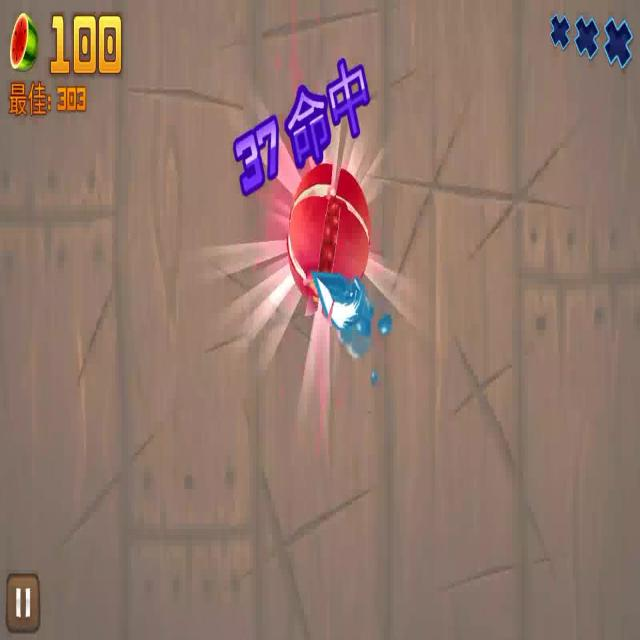fruit: (287, 163, 370, 316)
